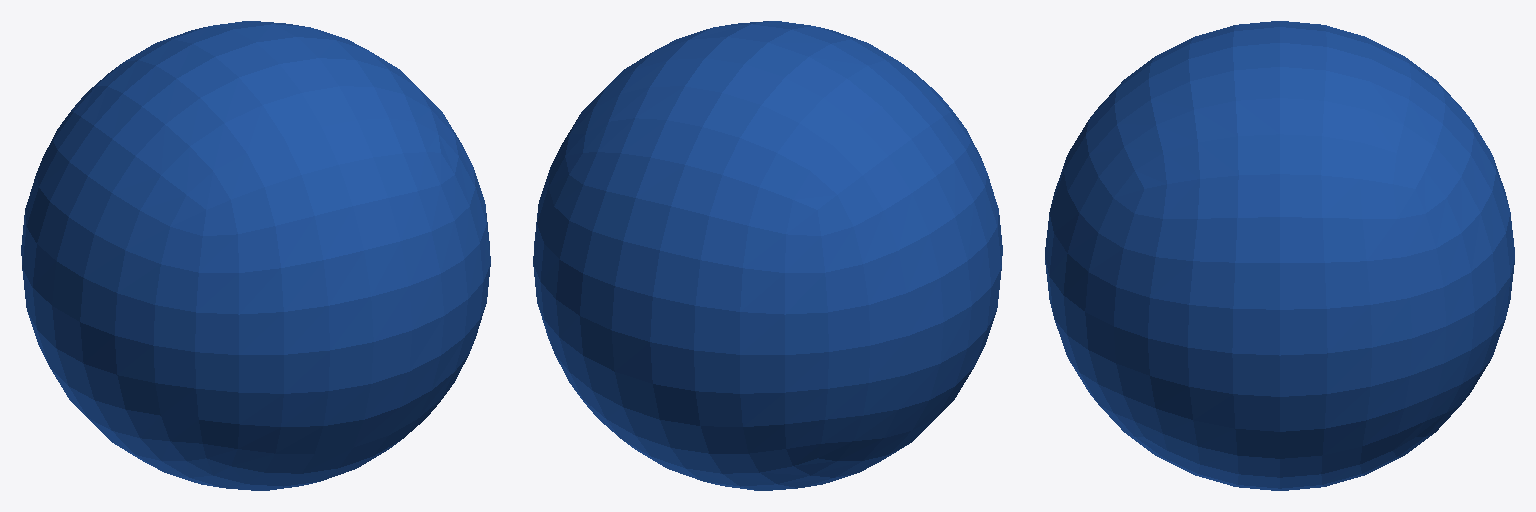
File: BallNoTexture.obj
The picture shows the model from 3 angles: view 1: azimuth 30°, elevation 25°; view 2: azimuth 150°, elevation 25°; view 3: azimuth 270°, elevation 25°; orthographic projection.
Visible parts, largest first — view 1: Box002; view 2: Box002; view 3: Box002.
Boxes of the visible parts, x1=… form: Box002: x1=21, y1=21, x2=490, y2=490; Box002: x1=533, y1=21, x2=1002, y2=490; Box002: x1=1045, y1=21, x2=1514, y2=490.
Bounding box in the file's own units: 7.56 × 7.56 × 7.56.